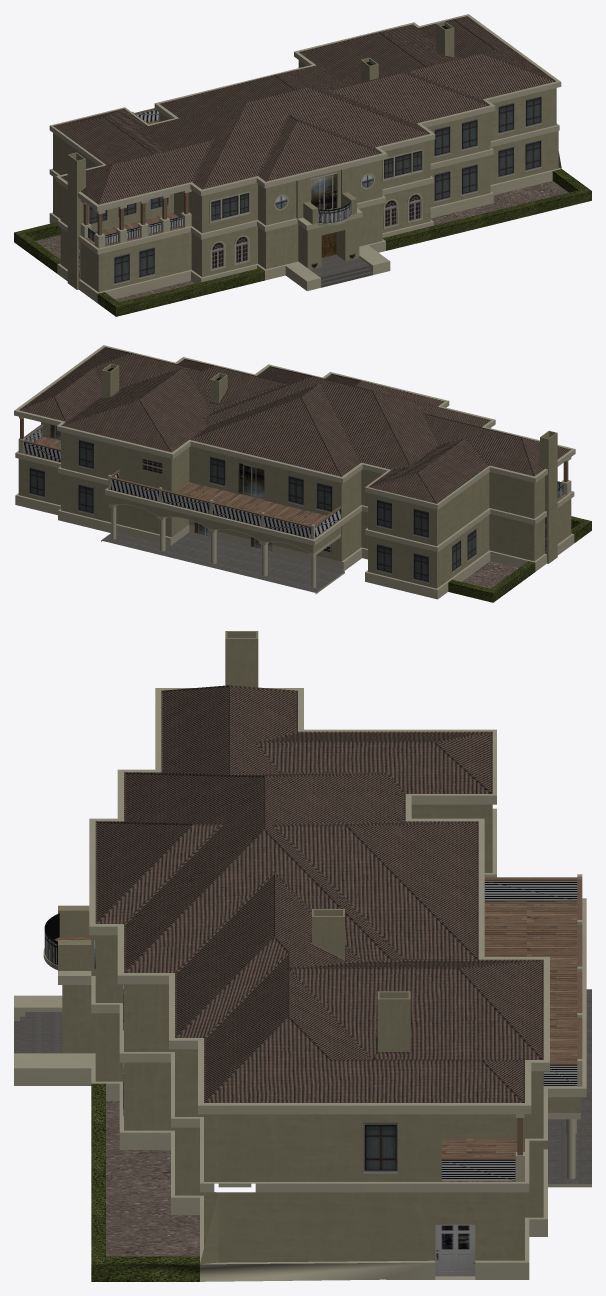
Rendered from домfик.fbx.
3 views of the same model, one above another, from view 1: azimuth 30°, elevation 25°; view 2: azimuth 150°, elevation 25°; view 3: azimuth 270°, elevation 25° (orthographic). The views are drawn at different scales.
Parts seen in each view (by area): view 1: mansion1; view 2: mansion1; view 3: mansion1.
Part boxes in pixels (left/top/right/bottom): mansion1: left=14, top=14, right=591, bottom=316; mansion1: left=14, top=345, right=591, bottom=602; mansion1: left=14, top=631, right=591, bottom=1281.
Bounding box in the file's own units: 4105 × 1120 × 2391.
